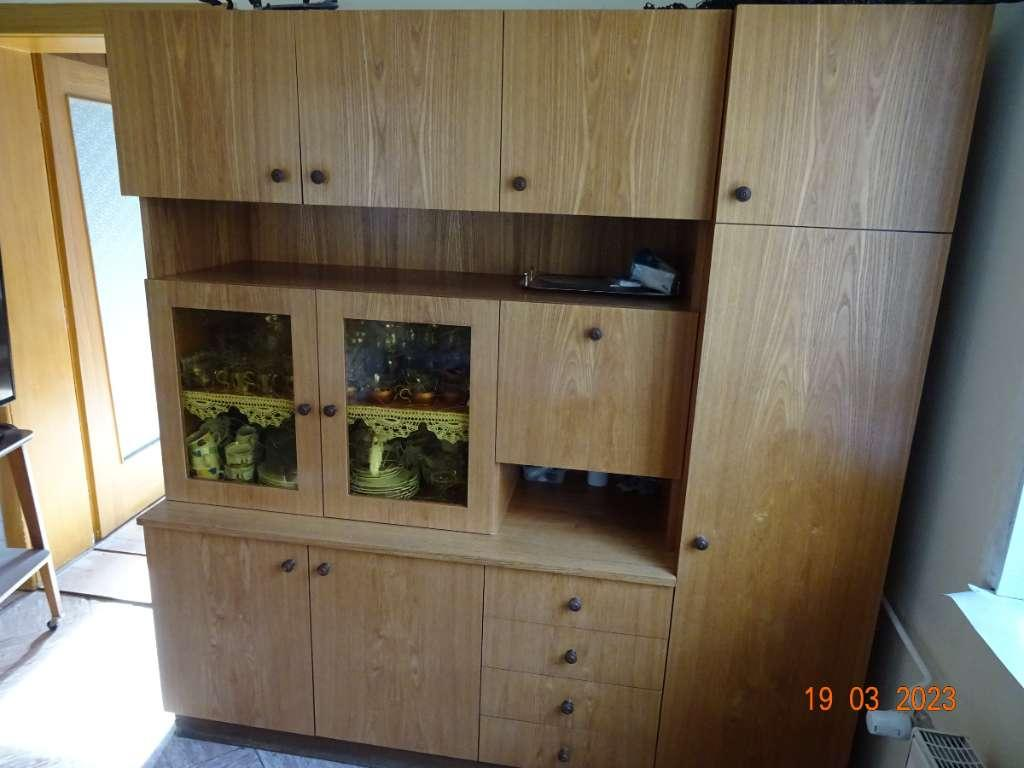cabinet_door: (690, 229, 884, 768), (724, 5, 970, 218), (504, 12, 730, 217), (298, 12, 504, 211), (317, 298, 502, 517), (111, 11, 297, 204), (157, 289, 319, 504), (313, 550, 483, 747), (501, 303, 692, 473), (157, 540, 311, 716), (483, 683, 648, 763), (488, 582, 661, 626), (485, 635, 658, 677)
handle: (724, 179, 758, 207), (689, 530, 721, 558), (304, 161, 330, 191), (274, 553, 302, 579), (266, 162, 292, 189), (559, 593, 588, 617), (557, 642, 583, 668), (508, 171, 532, 196), (315, 556, 338, 581), (580, 324, 606, 346), (556, 697, 579, 721), (295, 400, 314, 422), (323, 402, 340, 423)
